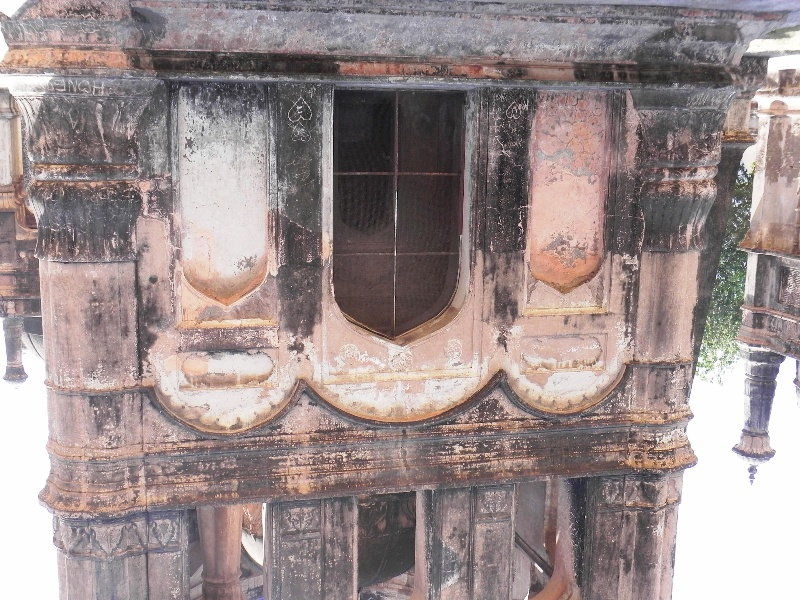Spalling: (539, 233, 592, 268)
